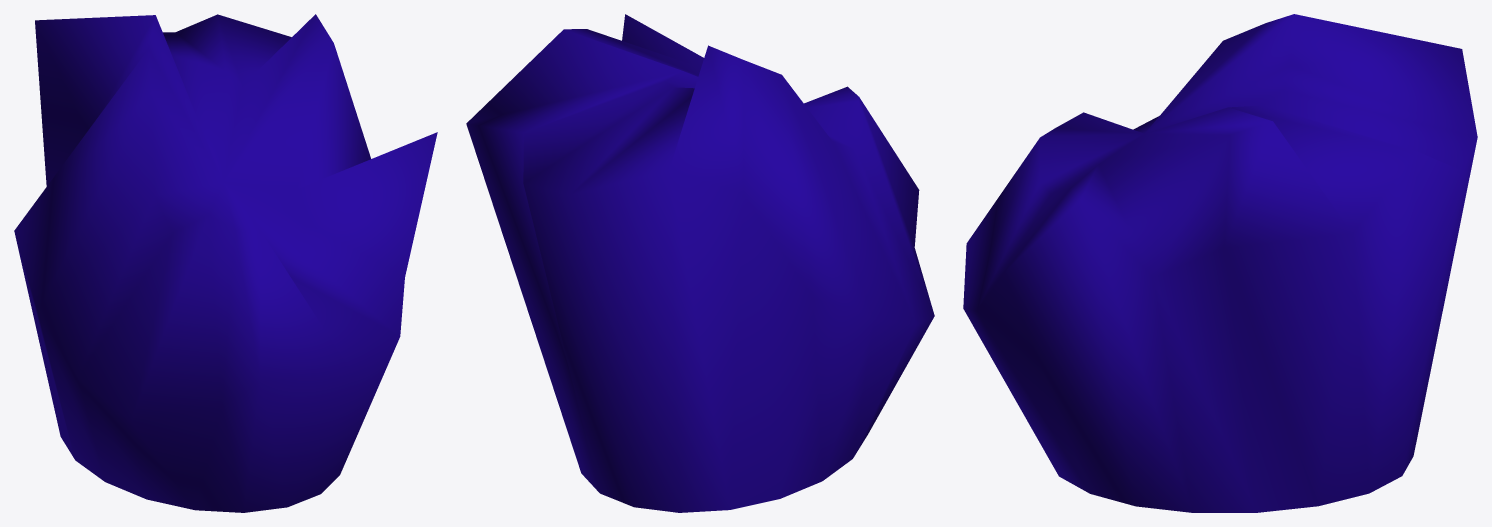
File: CG_Model_TownExt_Rock4_Mar24_ChrisMcknight.FBX
3 renders of one model, left to right at view 1: azimuth 30°, elevation 25°; view 2: azimuth 150°, elevation 25°; view 3: azimuth 270°, elevation 25°, orthographic. The views are drawn at different scales.
Visible parts, largest first — view 1: Sphere009; view 2: Sphere009; view 3: Sphere009.
Boxes of the visible parts, <box> form: Sphere009: <box>14,14,437,512</box>; Sphere009: <box>466,14,934,512</box>; Sphere009: <box>963,14,1477,512</box>.
Size of the model in its own units: 19.15 by 21.68 by 23.25.
